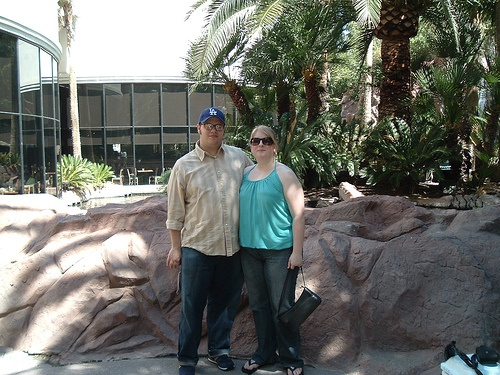head: (193, 105, 229, 150), (248, 125, 279, 162)
person: (162, 106, 252, 373), (238, 119, 303, 375)
